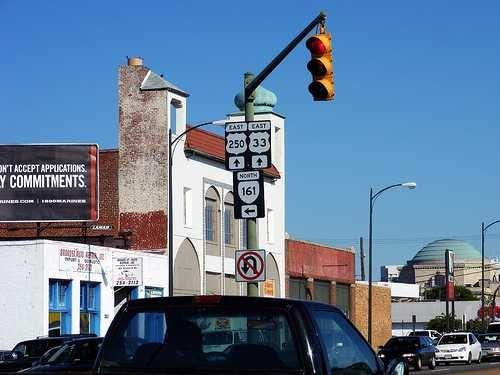red: (308, 33, 335, 103)
